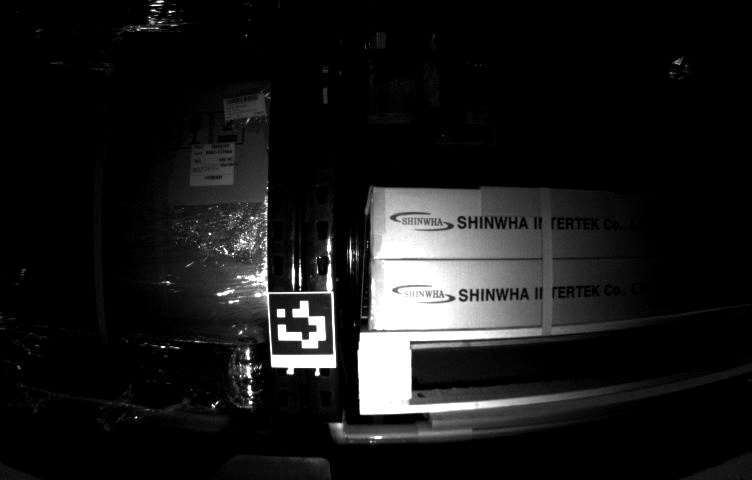True Barcode: (193, 143, 235, 186)
